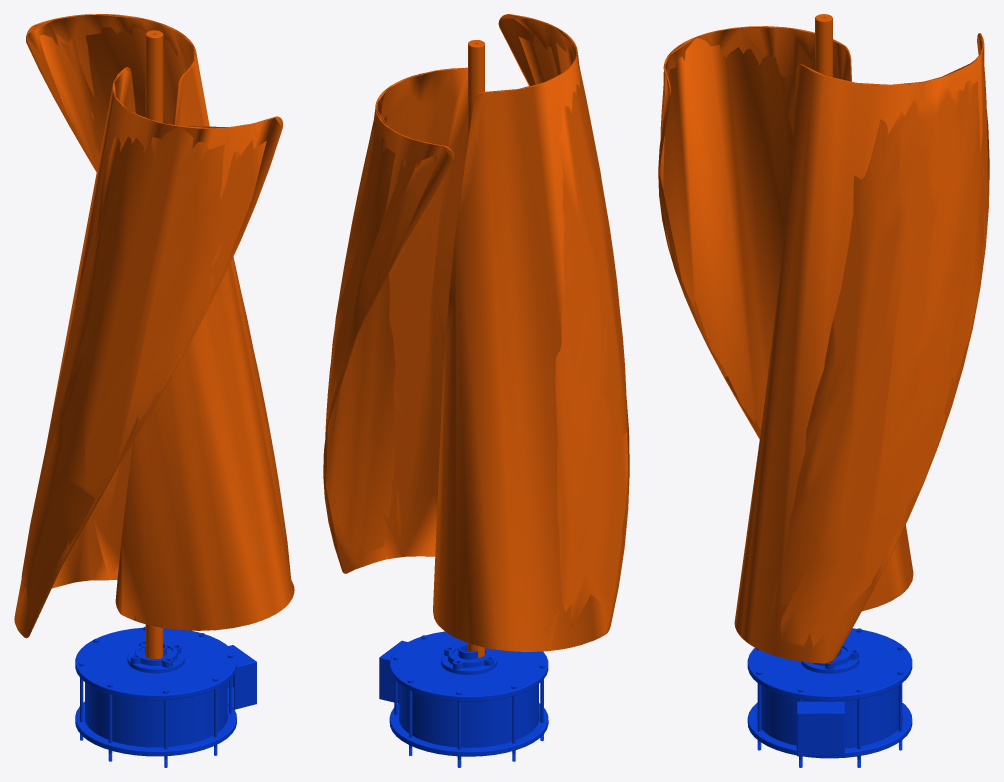
The model's file is 01-new-windside-turbines-single-positioned.glb.
3 renders of one model, left to right at view 1: azimuth 30°, elevation 25°; view 2: azimuth 150°, elevation 25°; view 3: azimuth 270°, elevation 25°, orthographic. The views are drawn at different scales.
Parts seen in each view (by area): view 1: Polygon.009, Chamfer1.007; view 2: Polygon.009, Chamfer1.007; view 3: Polygon.009, Chamfer1.007.
Part boxes in pixels (left/top/right/bottom): Polygon.009: left=14, top=14, right=294, bottom=658; Chamfer1.007: left=75, top=626, right=256, bottom=767; Polygon.009: left=323, top=14, right=629, bottom=657; Chamfer1.007: left=379, top=631, right=548, bottom=767; Polygon.009: left=658, top=14, right=989, bottom=663; Chamfer1.007: left=747, top=628, right=912, bottom=767.
Size of the model in its own units: 5.15 by 13.21 by 5.53.
